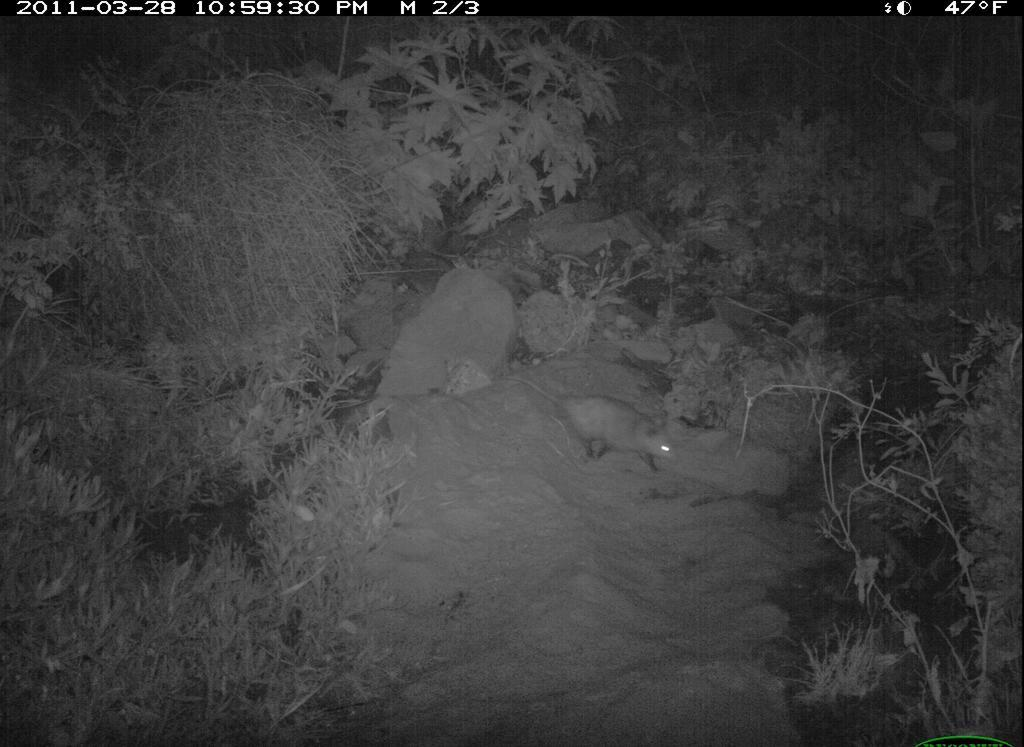opossum: (533, 378, 684, 481)
